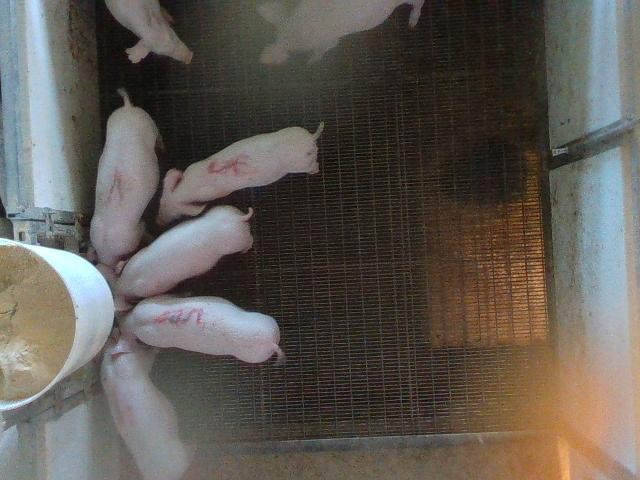pig-1: (90, 90, 160, 273)
pig-3: (119, 295, 282, 362)
pig-4: (101, 339, 191, 479)
pig-5: (158, 123, 324, 224)
